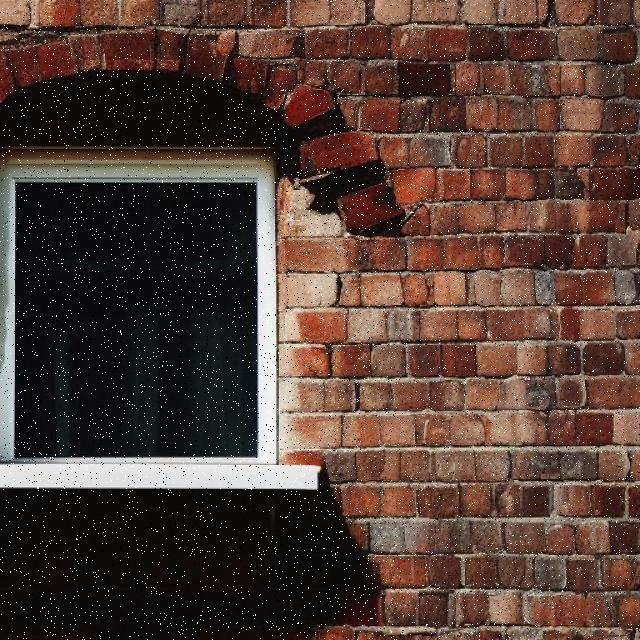window: (1, 158, 278, 462)
